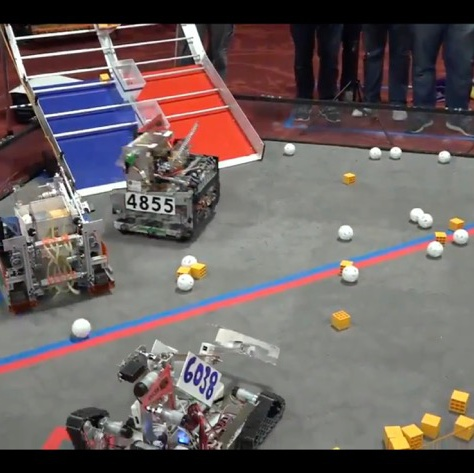robot: (59, 323, 288, 453), (3, 168, 116, 311), (111, 113, 224, 244)
